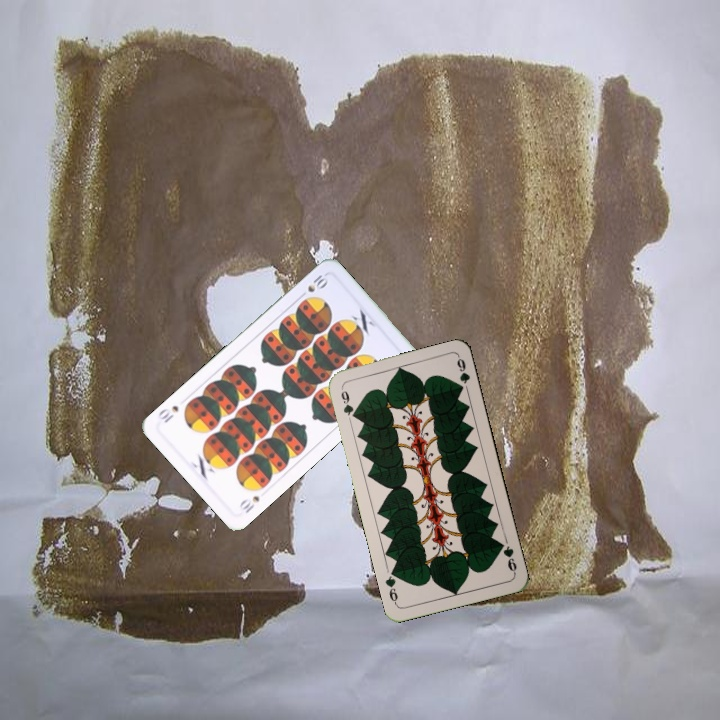G9: (495, 538, 519, 576), (337, 383, 359, 421)
S10: (295, 270, 331, 301), (235, 492, 262, 516)
